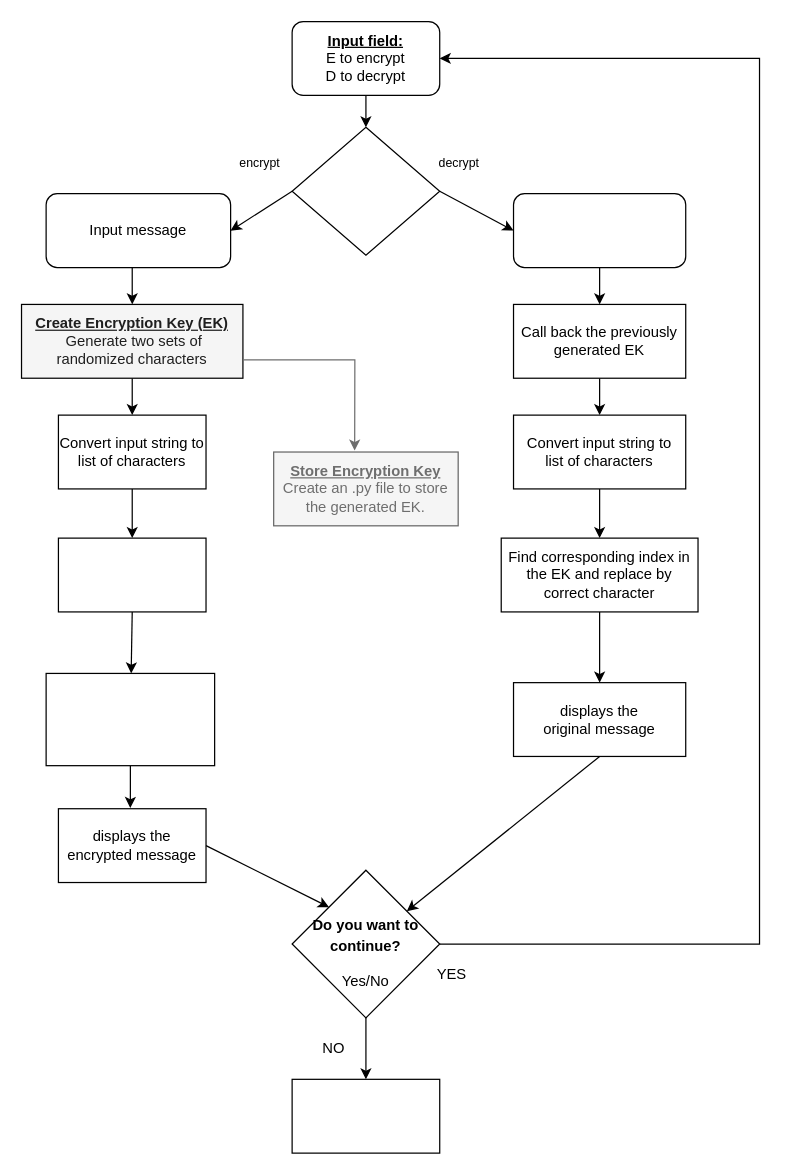
Image size: 791x1175. Some labels were removed from this diagram. Each missing label, with the box of its shape:
Encrypt of decrypt: (291, 126, 440, 255)
END: (291, 1078, 440, 1153)
Find index of each character in the EK: (57, 537, 206, 612)
Input crypted message: (512, 192, 686, 268)
Use index to retrieve encrypted character (in another randomized dictionary: (45, 672, 215, 766)
